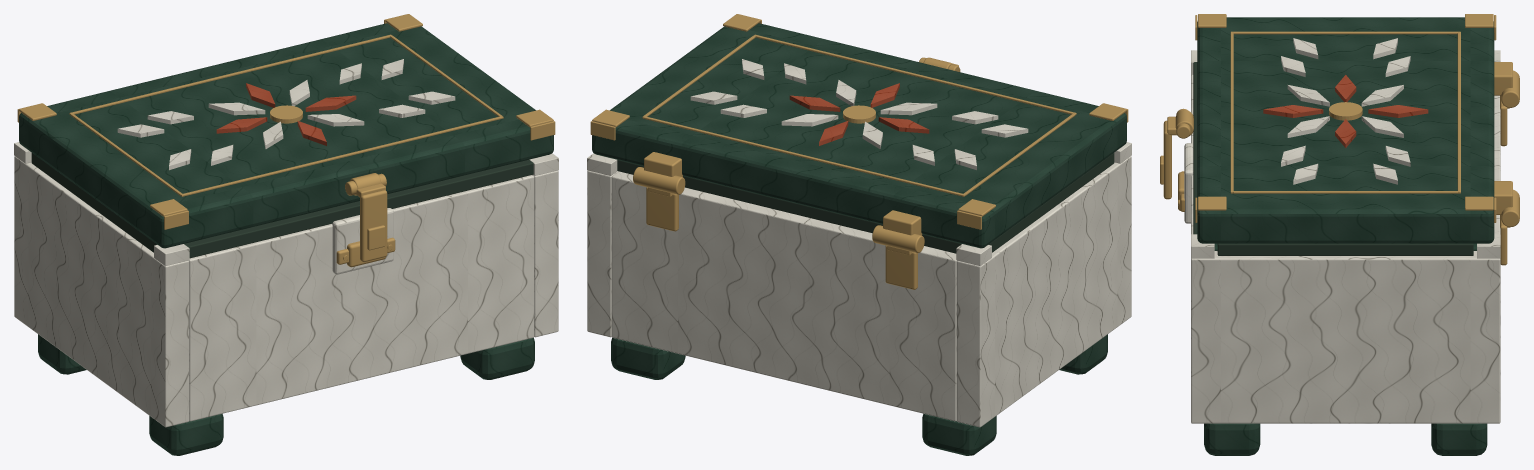
Rendered from italy.glb.
3 views of the same model, side by side, from view 1: azimuth 30°, elevation 25°; view 2: azimuth 150°, elevation 25°; view 3: azimuth 270°, elevation 25° (orthographic). The views are drawn at different scales.
Parts seen in each view (by area): view 1: Lid / polished slab, Stone skin / front rear, Stone skin / side, Mineral seam / long, Stone skin / side.001, Stone foot, Stone foot.002, Latch / lifting hasp, Stone / clasp seat, Mineral seam / side, Inlay / brass border, Inlay / brass border.001 (+2 smaller); view 2: Lid / polished slab, Stone skin / front rear.001, Stone skin / side, Stone skin / side.001, Mineral seam / long.001, Stone foot.001, Stone foot.003, Mineral seam / side, Hinge / fixed mount, Hinge / fixed mount.001, Inlay / brass border.001, Inlay / brass border (+6 smaller); view 3: Lid / polished slab, Stone skin / side.001, Mineral seam / side.001, Stone foot.002, Stone foot.003, Inlay / brass border.002, Mineral seam / long, Stone skin / front rear.001, Inlay / brass border.003, Inlay / brass border, Latch / lifting hasp, Inlay / brass border.001 (+20 smaller).
Part boxes in pixels (x1=…): Lid / polished slab: x1=19, y1=23, x2=553, y2=248; Stone skin / front rear: x1=189, y1=175, x2=534, y2=421; Stone skin / side: x1=14, y1=156, x2=189, y2=427; Mineral seam / long: x1=184, y1=159, x2=533, y2=258; Stone skin / side.001: x1=532, y1=170, x2=558, y2=337; Stone foot: x1=149, y1=413, x2=223, y2=455; Stone foot.002: x1=460, y1=338, x2=534, y2=379; Latch / lifting hasp: x1=360, y1=190, x2=387, y2=262; Stone / clasp seat: x1=332, y1=208, x2=393, y2=274; Mineral seam / side: x1=31, y1=153, x2=157, y2=252; Inlay / brass border: x1=180, y1=116, x2=503, y2=196; Inlay / brass border.001: x1=69, y1=34, x2=391, y2=114; Lid / polished slab: x1=592, y1=23, x2=1126, y2=248; Stone skin / front rear.001: x1=611, y1=171, x2=956, y2=421; Stone skin / side: x1=956, y1=156, x2=1131, y2=427; Stone skin / side.001: x1=587, y1=170, x2=618, y2=337; Mineral seam / long.001: x1=617, y1=160, x2=961, y2=253; Stone foot.001: x1=922, y1=413, x2=996, y2=455; Stone foot.003: x1=611, y1=338, x2=685, y2=379; Mineral seam / side: x1=988, y1=153, x2=1114, y2=252; Hinge / fixed mount: x1=885, y1=245, x2=917, y2=289; Hinge / fixed mount.001: x1=646, y1=187, x2=678, y2=231; Inlay / brass border.001: x1=642, y1=116, x2=965, y2=196; Inlay / brass border: x1=754, y1=34, x2=1076, y2=114; Lid / polished slab: x1=1197, y1=17, x2=1494, y2=243; Stone skin / side.001: x1=1191, y1=251, x2=1500, y2=423; Mineral seam / side.001: x1=1217, y1=243, x2=1473, y2=255; Stone foot.002: x1=1204, y1=423, x2=1260, y2=455; Stone foot.003: x1=1431, y1=423, x2=1487, y2=455; Inlay / brass border.002: x1=1233, y1=31, x2=1457, y2=34; Mineral seam / long: x1=1193, y1=62, x2=1197, y2=234; Stone skin / front rear.001: x1=1494, y1=95, x2=1500, y2=234; Inlay / brass border.003: x1=1233, y1=191, x2=1457, y2=193; Inlay / brass border: x1=1230, y1=31, x2=1233, y2=193; Latch / lifting hasp: x1=1163, y1=120, x2=1171, y2=199; Inlay / brass border.001: x1=1457, y1=31, x2=1460, y2=193.
Bounding box in the file's own units: 3.72 × 2.29 × 2.88.
Materials: 5 (3 with a texture image).
